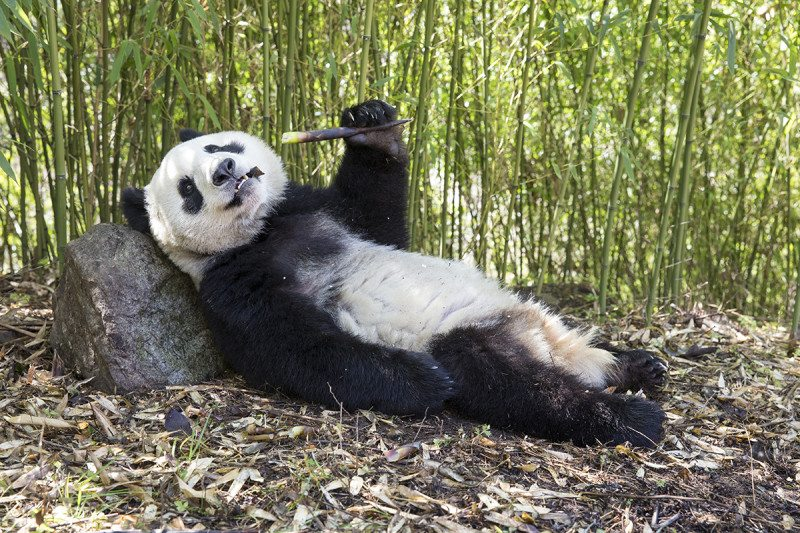panda: (132, 81, 692, 478)
